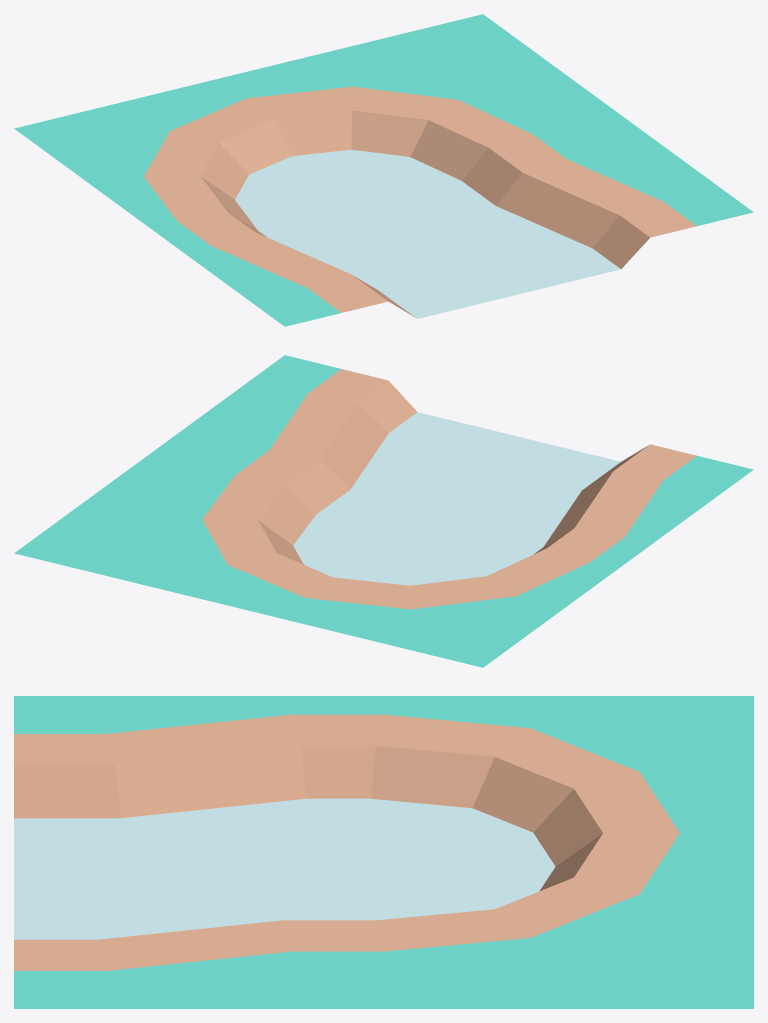
Rendered from ground_riverEndClosed.glb.
3 renders of one model, top to bottom at view 1: azimuth 30°, elevation 25°; view 2: azimuth 150°, elevation 25°; view 3: azimuth 270°, elevation 25°, orthographic. The views are drawn at different scales.
Parts seen in each view (by area): view 1: ground_riverEndClosed; view 2: ground_riverEndClosed; view 3: ground_riverEndClosed.
Boxes of the visible parts, box(x1,y1,x2,y2) form: ground_riverEndClosed: box(14, 14, 753, 326); ground_riverEndClosed: box(14, 355, 753, 667); ground_riverEndClosed: box(14, 696, 753, 1008).
Bounding box in the file's own units: 1 × 0.0501 × 1.
